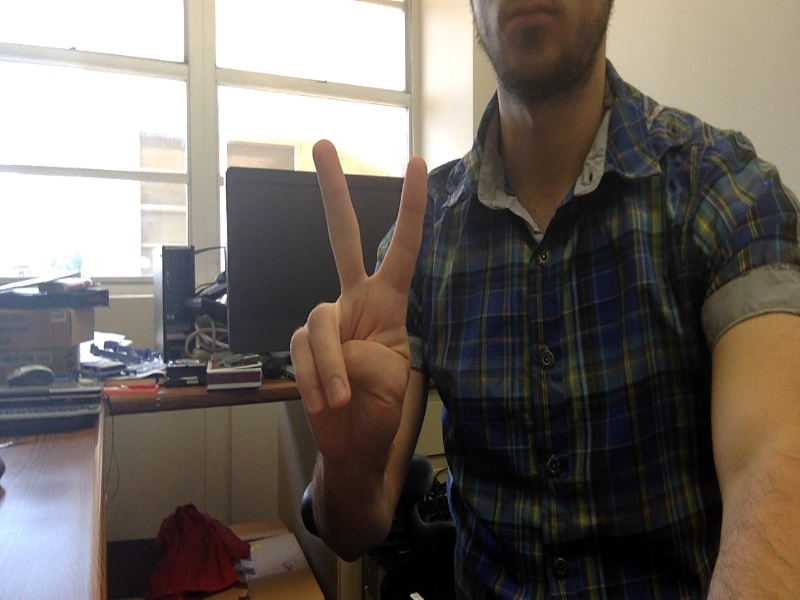2-hand: (284, 138, 431, 470)
